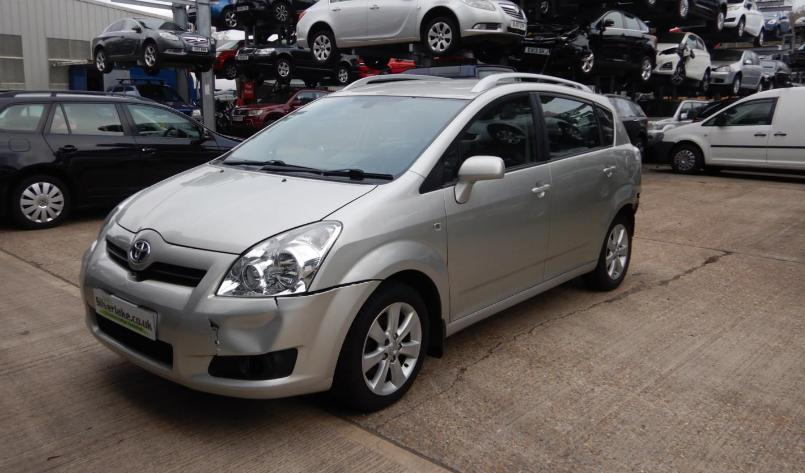Back-door: (540, 93, 618, 282)
Back-wheel: (587, 213, 634, 290)
Back-window: (540, 96, 599, 163), (596, 107, 612, 144)
Fender: (311, 171, 449, 332)
Front-bumper: (79, 223, 384, 399)
Front-door: (428, 91, 552, 323)
Front-wheel: (321, 276, 434, 409)
Front-window: (428, 95, 545, 191)
Grille: (108, 240, 202, 287)
Headlight: (215, 220, 341, 296), (95, 207, 121, 242)
Hood: (116, 162, 379, 255)
License-plate: (96, 288, 160, 343)
Mirror: (455, 155, 505, 203)
Quarter-panel: (608, 141, 641, 214)
Rocker-panel: (446, 260, 598, 337)
Roof: (329, 73, 606, 103)
Windshield: (223, 95, 474, 178)
